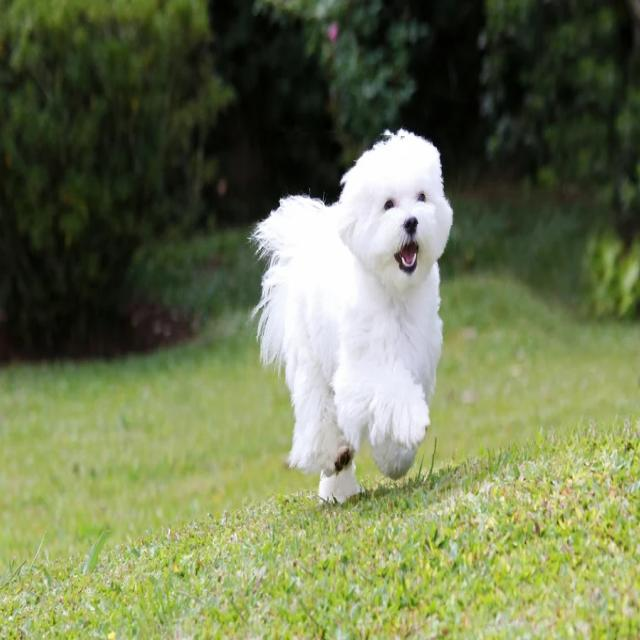maltese: (245, 132, 456, 514)
